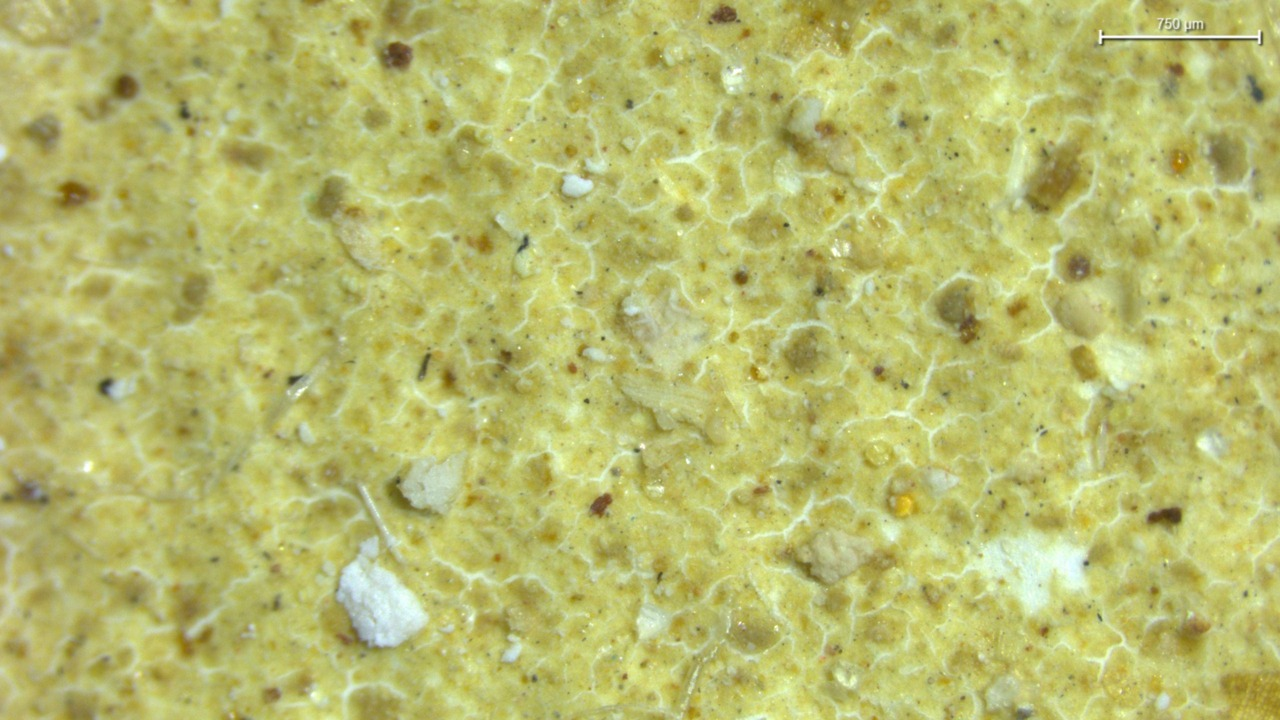microplastic_fragment: (336, 551, 427, 647), (795, 528, 874, 584), (401, 453, 465, 514), (561, 174, 594, 198)
